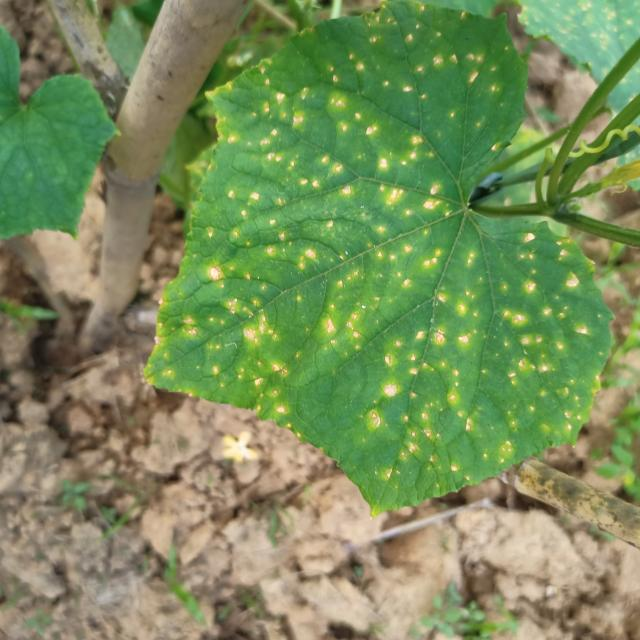disease_cucumber: (186, 22, 593, 476)
